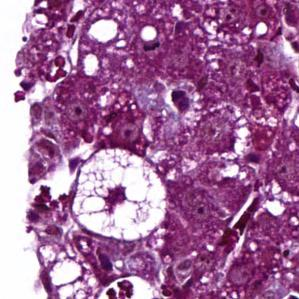ballooning: (70, 146, 171, 243)
